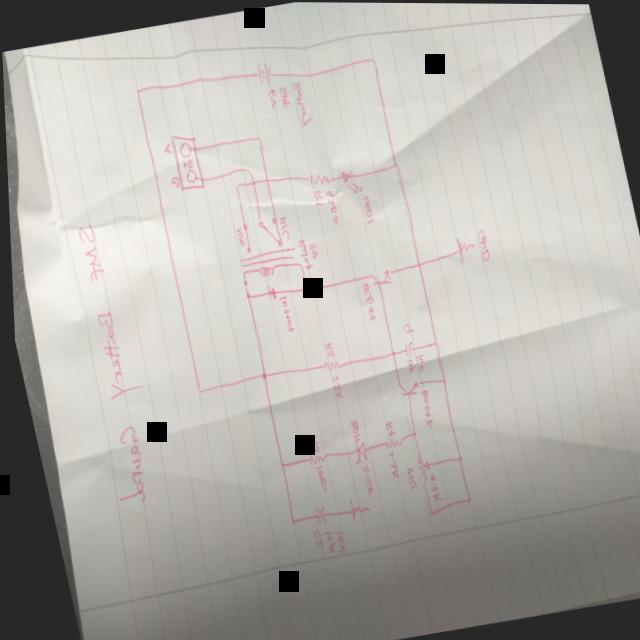capacitor: (308, 504, 321, 524), (398, 340, 411, 357)
crossover: (261, 174, 267, 184), (247, 176, 253, 186)
diode: (337, 166, 359, 196), (343, 435, 363, 466), (261, 283, 274, 301)
ground: (451, 234, 472, 262), (342, 494, 363, 521)
junction: (366, 53, 376, 66), (296, 281, 306, 292), (190, 384, 199, 395), (255, 369, 263, 380), (252, 133, 260, 144), (411, 259, 419, 269), (450, 453, 458, 462), (230, 181, 238, 190), (242, 166, 250, 175), (389, 160, 396, 170), (428, 338, 435, 347), (132, 86, 139, 95), (273, 459, 280, 468), (241, 291, 248, 300), (421, 508, 428, 517), (385, 347, 392, 356), (460, 494, 466, 502), (405, 430, 411, 437), (284, 517, 289, 525), (436, 376, 441, 383)
resistor: (302, 169, 331, 188), (410, 453, 427, 481), (377, 434, 400, 450), (302, 448, 322, 466), (317, 356, 339, 372)
source: (252, 57, 272, 87)
terminal: (174, 139, 190, 158), (181, 167, 195, 183)
text: (54, 220, 162, 506), (288, 78, 312, 130), (355, 278, 374, 321), (470, 227, 489, 262), (274, 294, 291, 333), (413, 386, 430, 425), (320, 188, 337, 225), (420, 469, 438, 503), (354, 462, 371, 498), (355, 190, 372, 224), (324, 370, 340, 400), (309, 461, 324, 492), (292, 238, 308, 267), (381, 448, 395, 479), (272, 215, 287, 242), (398, 463, 413, 489), (326, 528, 341, 554), (316, 528, 331, 553), (274, 83, 289, 108), (231, 225, 245, 250), (263, 86, 278, 109), (303, 526, 318, 549), (303, 239, 317, 262), (342, 417, 356, 438), (302, 433, 315, 454), (409, 352, 423, 371), (378, 418, 392, 435), (308, 188, 322, 205), (320, 340, 331, 359), (166, 174, 179, 190), (397, 320, 410, 334), (178, 157, 192, 169), (158, 142, 170, 156), (401, 357, 412, 372)
transistor: (391, 377, 415, 399), (368, 266, 390, 287)
